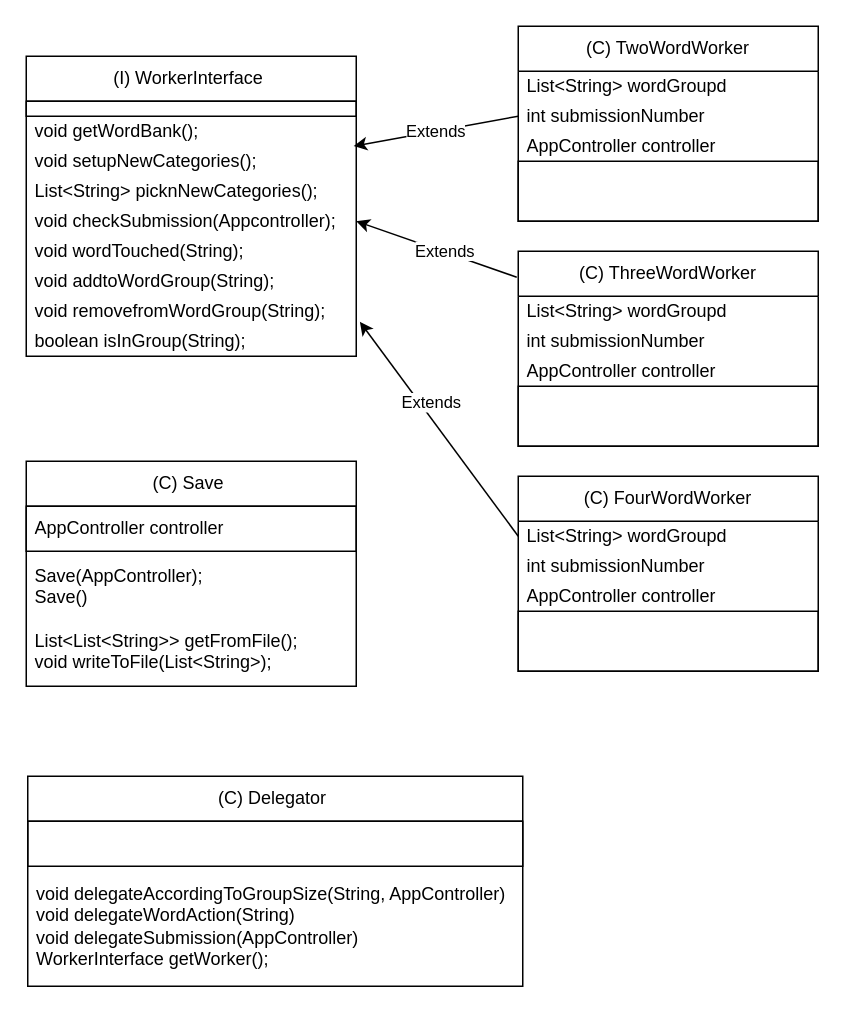
Image size: 845x1013. Some labels were removed from this diagram. The shapes that lost their labels are listed below. From the top down, each one's centre as x and y in pixels, then its label:
[667,190]: TwoWordWorker(AppController) TwoWordWorker()
[667,415]: ThreeWordWorker(AppController) ThreeWordWorker()
[667,640]: FourWordWorker(AppController) FourWordWorker()
[274,843]: WorkerInterface worker;
